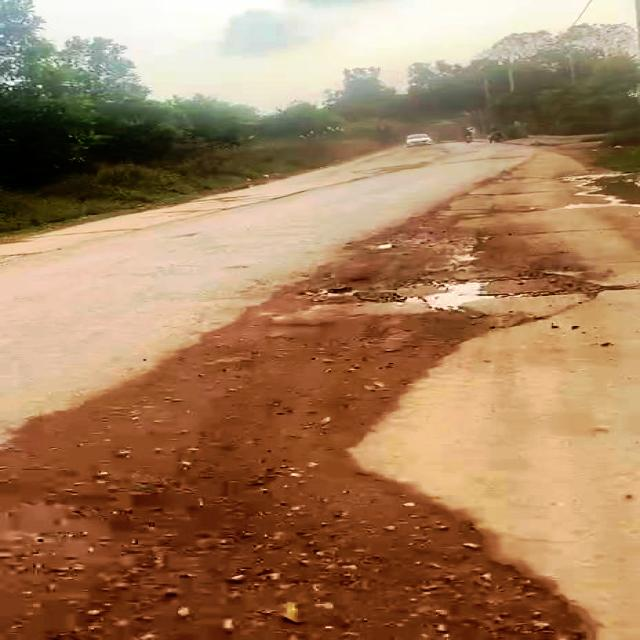pothole: (400, 269, 520, 322)
